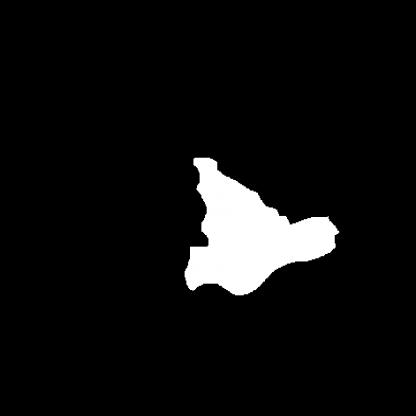malignant: (180, 145, 343, 302)
